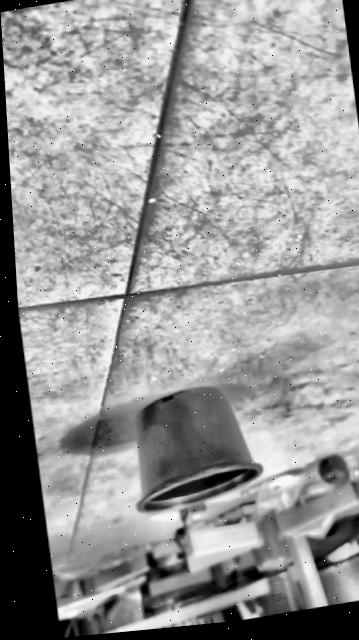pot: (121, 379, 266, 515)
